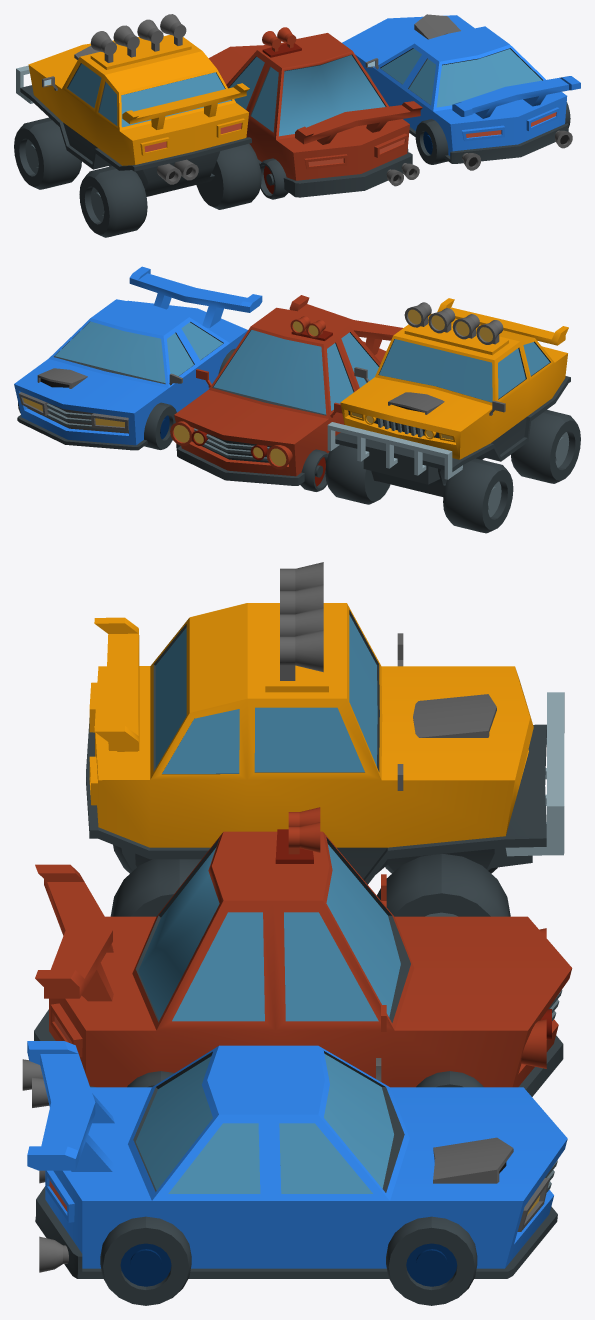
File: Cars.fbx
3 views of the same model, one above another, from view 1: azimuth 30°, elevation 25°; view 2: azimuth 150°, elevation 25°; view 3: azimuth 270°, elevation 25° (orthographic). The views are drawn at different scales.
Parts seen in each view (by area): view 1: Car_03, Car_01, Car_02; view 2: Car_03, Car_02, Car_01; view 3: Car_03, Car_02, Car_01.
Part boxes in pixels (x1=…): Car_03: x1=14, y1=14, x2=261, y2=237; Car_01: x1=208, y1=27, x2=422, y2=199; Car_02: x1=342, y1=14, x2=580, y2=170; Car_03: x1=325, y1=298, x2=580, y2=533; Car_02: x1=14, y1=266, x2=262, y2=450; Car_01: x1=170, y1=295, x2=402, y2=491; Car_03: x1=86, y1=562, x2=564, y2=916; Car_02: x1=27, y1=1041, x2=567, y2=1305; Car_01: x1=22, y1=807, x2=572, y2=1107.
Size of the model in its own units: 1423 by 504 by 741.
3 materials, 3 textured.
